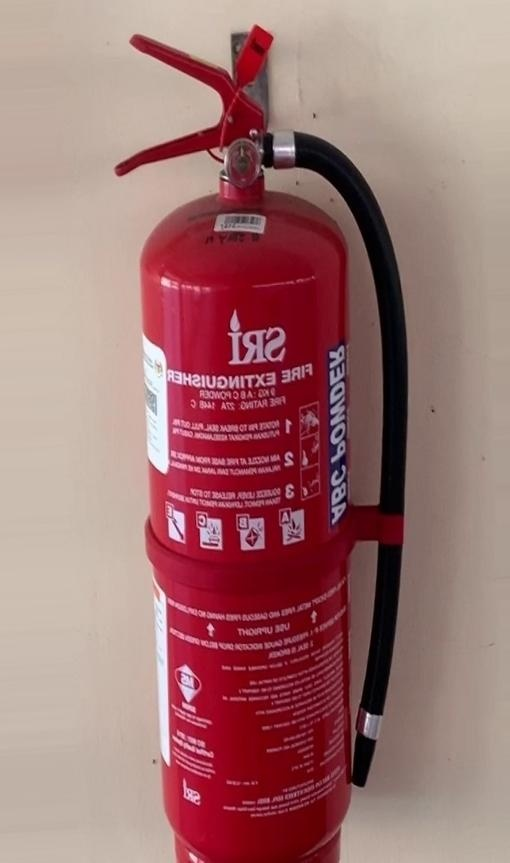fire_extinguisher: (114, 24, 409, 862)
